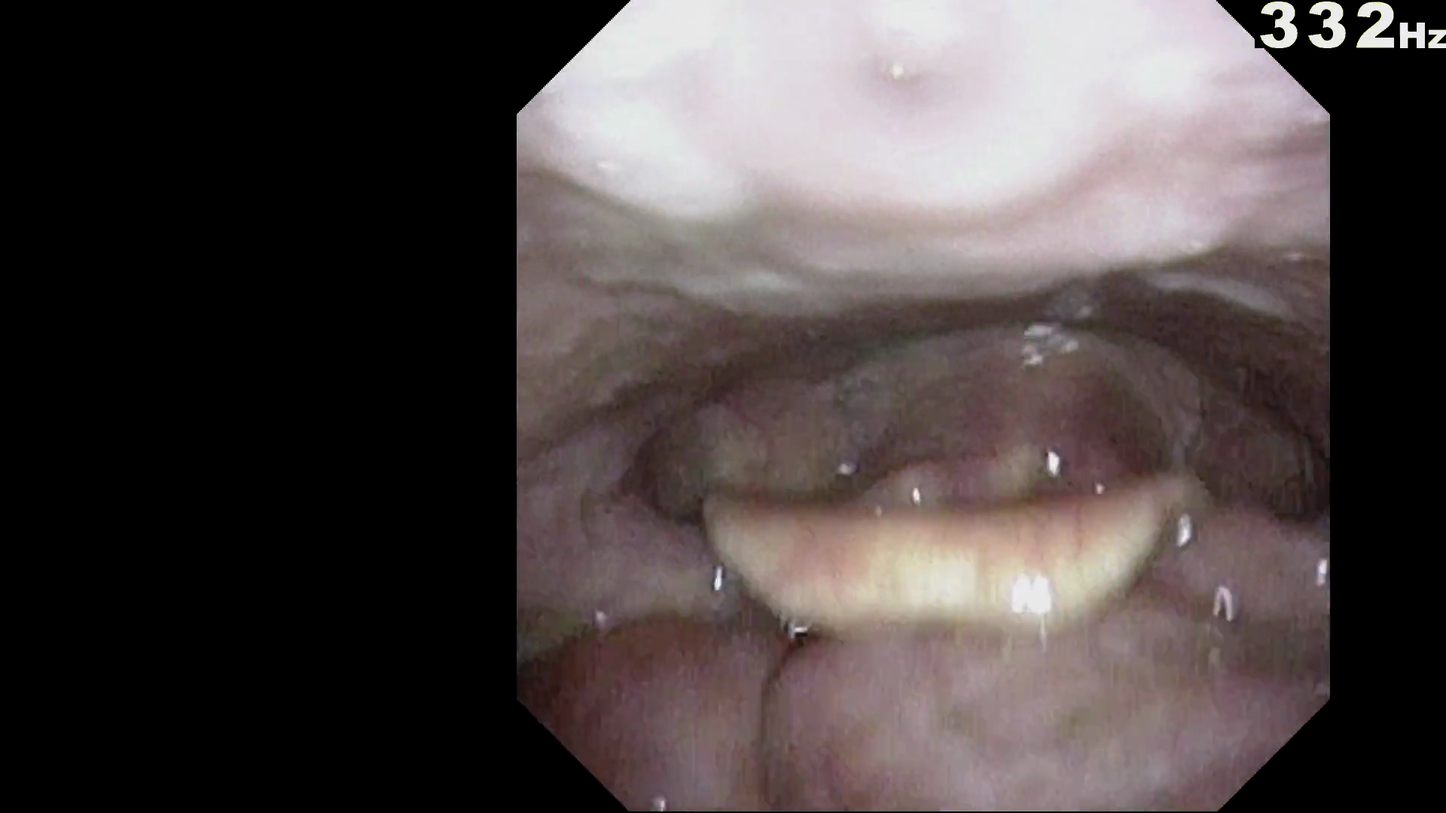epiglottis: (719, 532, 1260, 671)
trachea: (968, 484, 1104, 579)
